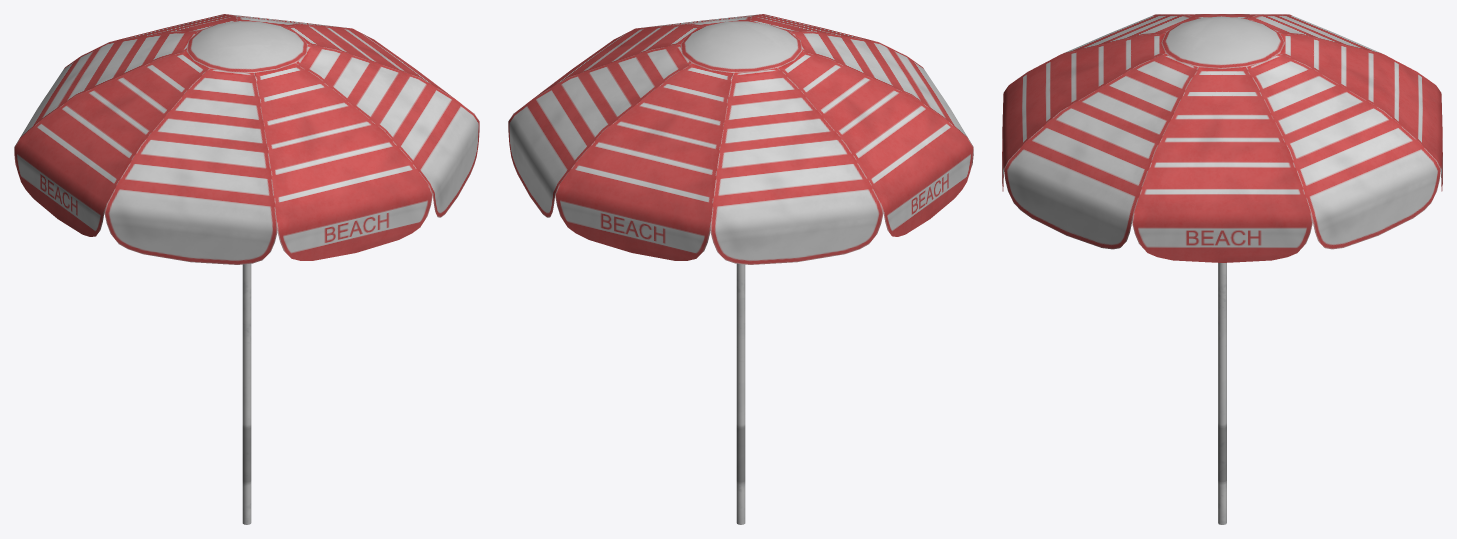
The model's file is MB_Beach_Umbrella_02.fbx.
3 renders of one model, left to right at view 1: azimuth 30°, elevation 25°; view 2: azimuth 150°, elevation 25°; view 3: azimuth 270°, elevation 25°, orthographic.
Visible parts, largest first — view 1: MB_Beach_Umbrella_02_LOD0; view 2: MB_Beach_Umbrella_02_LOD0; view 3: MB_Beach_Umbrella_02_LOD0.
Part boxes in pixels (x1,y1,x2,y2): MB_Beach_Umbrella_02_LOD0: (14,14,479,524); MB_Beach_Umbrella_02_LOD0: (508,14,973,524); MB_Beach_Umbrella_02_LOD0: (1002,14,1442,524).
Size of what is drawn, in the model's own units: 185 by 228 by 185.
